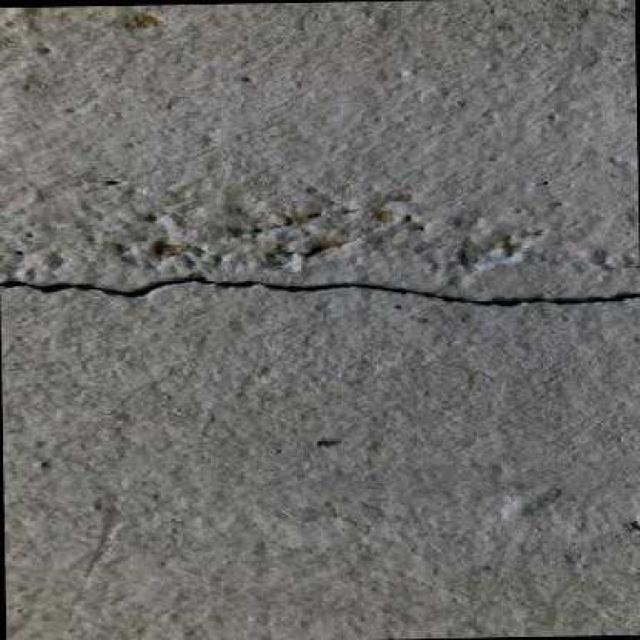D00: (0, 269, 640, 305)
